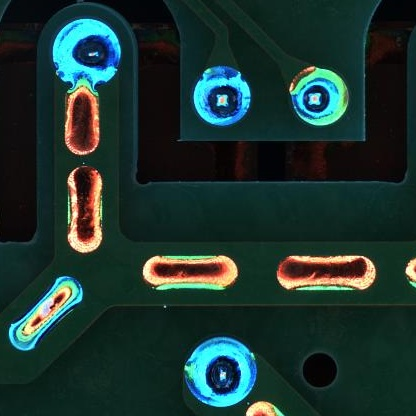spot: (183, 337, 258, 407), (52, 19, 120, 86), (285, 63, 349, 127), (191, 65, 253, 126)
